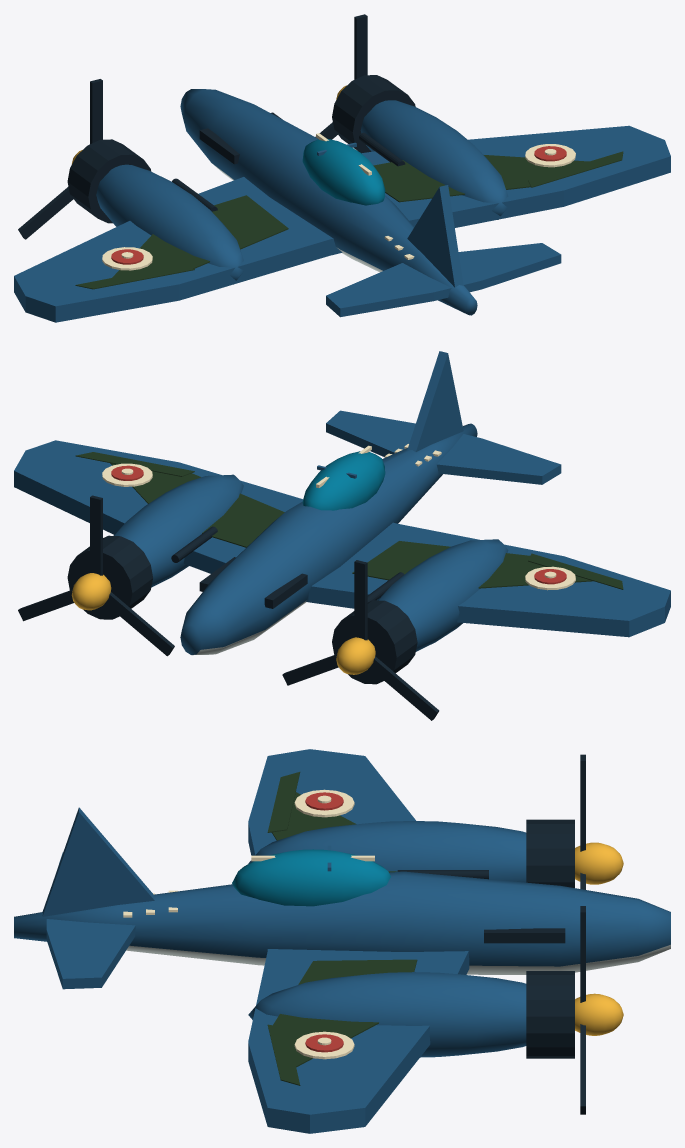
Rendered from gunship.glb.
3 views of the same model, one above another, from view 1: azimuth 30°, elevation 25°; view 2: azimuth 150°, elevation 25°; view 3: azimuth 270°, elevation 25° (orthographic). The views are drawn at different scales.
Parts seen in each view (by area): view 1: gunship-airframe, blade_0_2.005, blade_1_0.001, blade_0_0.005; view 2: gunship-airframe, blade_1_2.001, blade_0_2.005, blade_0_0.005, blade_1_0.001, blade_0_1.005, blade_1_1.001; view 3: gunship-airframe, blade_0_0.005, blade_1_0.001.
Part boxes in pixels (x1,y1,x2,y2): gunship-airframe: (14, 75, 670, 322); blade_0_2.005: (18, 186, 73, 239); blade_1_0.001: (354, 14, 367, 79); blade_0_0.005: (90, 79, 102, 143); gunship-airframe: (14, 351, 670, 684); blade_1_2.001: (105, 592, 174, 656); blade_0_2.005: (369, 656, 439, 720); blade_0_0.005: (354, 560, 367, 640); blade_1_0.001: (90, 495, 102, 575); blade_0_1.005: (282, 654, 338, 685); blade_1_1.001: (18, 589, 74, 621); gunship-airframe: (14, 749, 670, 1133); blade_0_0.005: (580, 754, 585, 851); blade_1_0.001: (580, 906, 585, 1002).
Size of the model in its own units: 2.66 by 0.6389 by 2.02.
